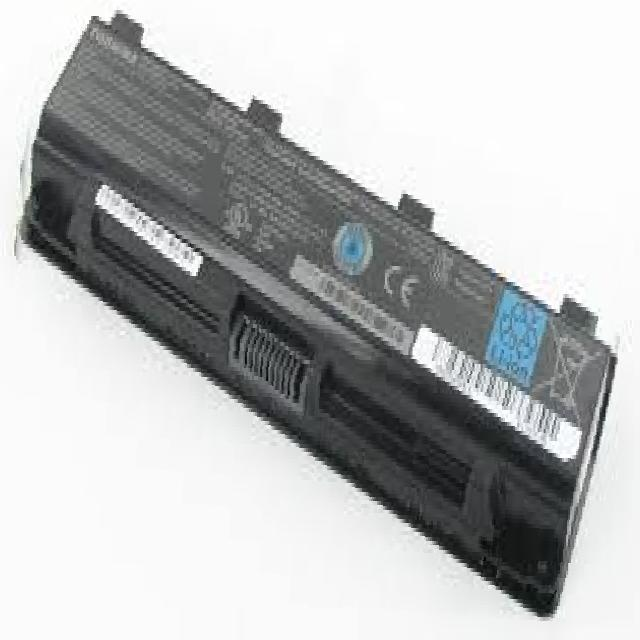Battery: (8, 3, 640, 623)
